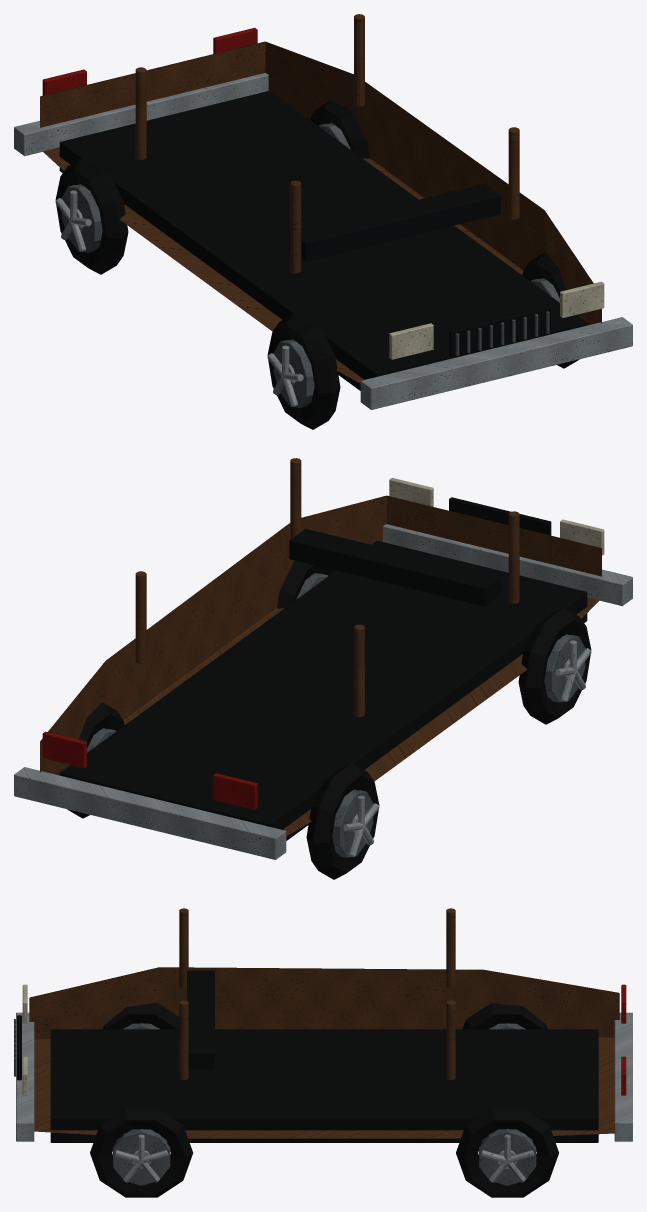
File: PROP-D786E7CC7187_lod1.glb
3 views of the same model, one above another, from view 1: azimuth 30°, elevation 25°; view 2: azimuth 150°, elevation 25°; view 3: azimuth 270°, elevation 25° (orthographic). The views are drawn at different scales.
Parts seen in each view (by area): view 1: chassis.002, shaped_body_panels.002, bumper.002, tire.002, dashboard.002, empty_cabin_frame.002, rim.002, lamp_lenses.004, radiator_grille.002, rim_spokes.002, lamp_lenses.005, grille_slats.002; view 2: chassis.002, shaped_body_panels.002, bumper.002, tire.002, dashboard.002, empty_cabin_frame.002, rim.002, lamp_lenses.005, lamp_lenses.004, rim_spokes.002, radiator_grille.002; view 3: chassis.002, shaped_body_panels.002, tire.002, rim.002, bumper.002, empty_cabin_frame.002, dashboard.002, rim_spokes.002, lamp_lenses.004, lamp_lenses.005.
Boxes of the visible parts, <box> form: chassis.002: <box>59,90,587,390</box>; shaped_body_panels.002: <box>40,41,601,383</box>; bumper.002: <box>14,73,632,409</box>; tire.002: <box>55,100,579,429</box>; dashboard.002: <box>289,183,500,261</box>; empty_cabin_frame.002: <box>135,14,519,273</box>; rim.002: <box>61,123,559,407</box>; lamp_lenses.004: <box>389,281,604,359</box>; radiator_grille.002: <box>449,306,551,357</box>; rim_spokes.002: <box>55,190,303,406</box>; lamp_lenses.005: <box>42,27,257,95</box>; grille_slats.002: <box>455,311,549,356</box>; chassis.002: <box>59,540,587,840</box>; shaped_body_panels.002: <box>40,495,601,836</box>; bumper.002: <box>14,524,632,859</box>; tire.002: <box>67,560,591,879</box>; dashboard.002: <box>289,528,500,606</box>; empty_cabin_frame.002: <box>135,458,519,717</box>; rim.002: <box>87,573,585,857</box>; lamp_lenses.005: <box>42,731,257,809</box>; lamp_lenses.004: <box>389,477,604,555</box>; rim_spokes.002: <box>343,640,591,856</box>; radiator_grille.002: <box>449,497,551,535</box>; chassis.002: <box>50,1029,598,1142</box>; shaped_body_panels.002: <box>29,967,619,1138</box>; tire.002: <box>90,1002,558,1197</box>; rim.002: <box>113,1023,536,1185</box>; bumper.002: <box>16,1012,632,1141</box>; empty_cabin_frame.002: <box>179,908,455,1080</box>; dashboard.002: <box>187,970,214,1068</box>; rim_spokes.002: <box>114,1134,534,1182</box>; lamp_lenses.004: <box>22,984,27,1095</box>; lamp_lenses.005: <box>621,984,626,1095</box>.
Size of the model in its own units: 2.09 by 1.48 by 4.41.
Materials: 7 (7 with a texture image).
